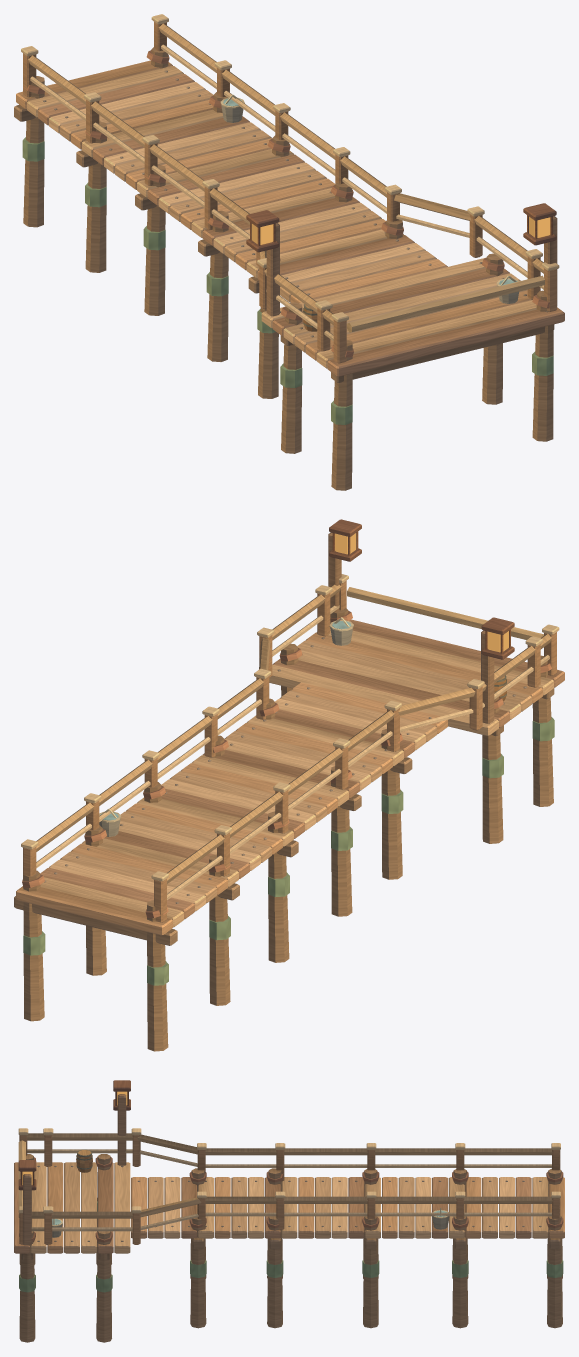
The model's file is pier_open.glb.
The picture shows the model from 3 angles, top to bottom: view 1: azimuth 30°, elevation 25°; view 2: azimuth 150°, elevation 25°; view 3: azimuth 270°, elevation 25°; orthographic projection. The views are drawn at different scales.
Parts seen in each view (by area): view 1: Fischersteg · open; view 2: Fischersteg · open; view 3: Fischersteg · open.
Part boxes in pixels (x1=…): Fischersteg · open: x1=14, y1=14, x2=564, y2=490; Fischersteg · open: x1=14, y1=519, x2=564, y2=1051; Fischersteg · open: x1=14, y1=1080, x2=564, y2=1342.
Bounding box in the file's own units: 3.7 × 3.33 × 9.55.
3 materials, 2 textured.
